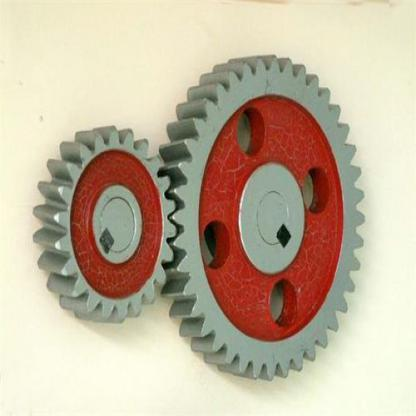FOD: (155, 51, 368, 384), (31, 123, 178, 328)
